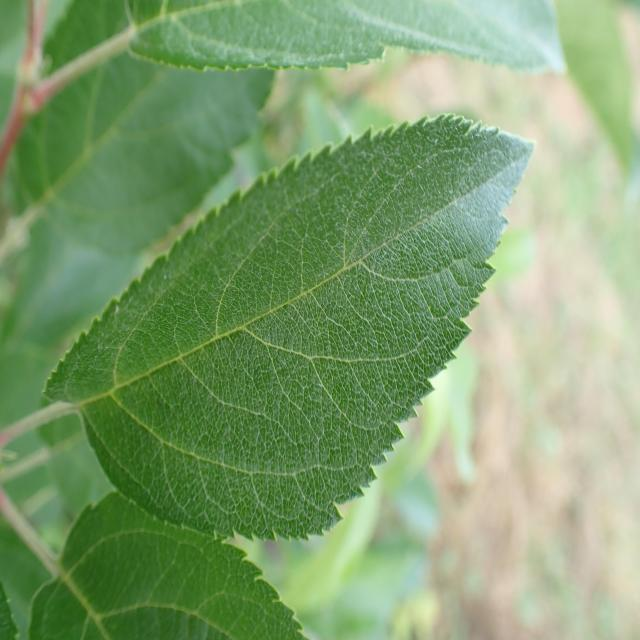healthy: (41, 112, 537, 544), (28, 488, 308, 640), (125, 0, 569, 73)
